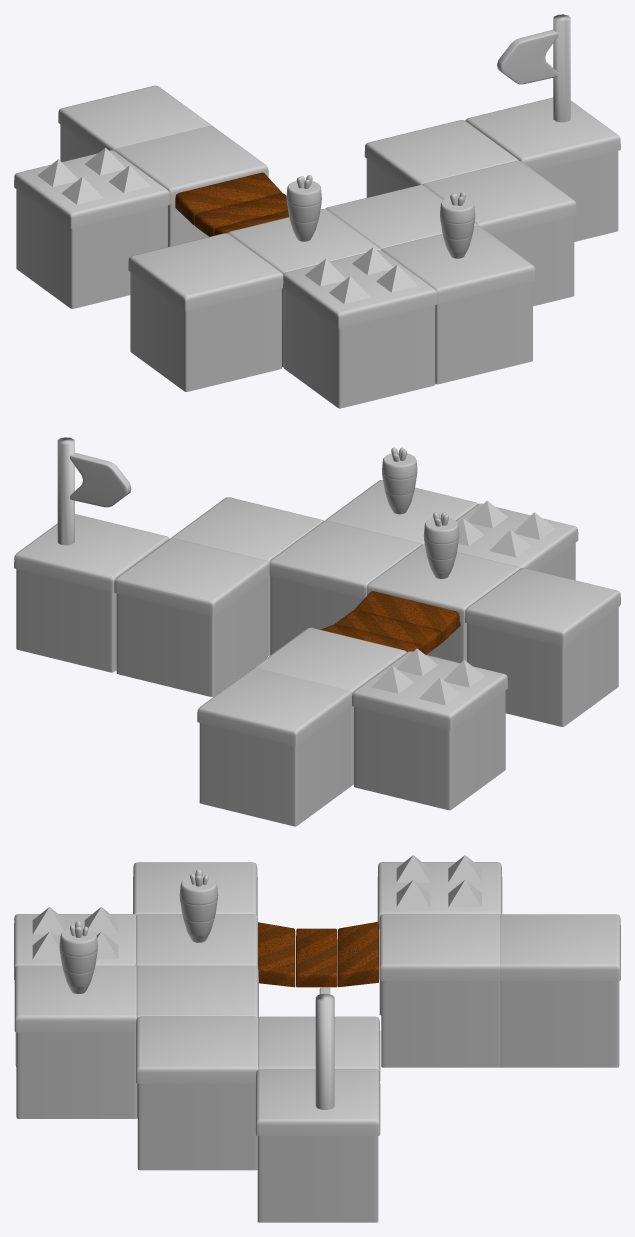
File: uroven.fbx
3 renders of one model, top to bottom at view 1: azimuth 30°, elevation 25°; view 2: azimuth 150°, elevation 25°; view 3: azimuth 270°, elevation 25°, orthographic. The views are drawn at different scales.
Visible parts, largest first — view 1: blok1.001, blok2.001, blok2, blok1.007, blok1.005, blok1.008, blok1, blok1.002, blok1.004, blok1.003, most, blok1.006 (+5 smaller); view 2: blok1.002, blok1.004, blok1.001, blok2, blok1.005, blok1.006, blok1.003, blok1, blok1.008, most, blok1.007, blok2.001 (+5 smaller); view 3: blok1.008, blok1.004, blok1, blok1.005, blok1.007, most, blok1.006, blok1.003, blok1.002, blok1.001, blok2, ship 1 (+5 smaller).
Part boxes in pixels (<box>): blok1.001: <box>128,233,283,391</box>; blok2.001: <box>283,250,437,408</box>; blok2: <box>14,150,170,308</box>; blok1.007: <box>381,225,535,384</box>; blok1.005: <box>465,97,620,241</box>; blok1.008: <box>422,160,576,306</box>; blok1: <box>114,125,268,246</box>; blok1.002: <box>364,120,518,197</box>; blok1.004: <box>58,85,211,161</box>; blok1.003: <box>227,209,380,367</box>; most: <box>175,172,288,236</box>; blok1.006: <box>325,185,477,249</box>; blok1.002: <box>114,538,269,696</box>; blok1.004: <box>197,667,352,826</box>; blok1.001: <box>465,568,620,726</box>; blok2: <box>352,651,507,810</box>; blok1.005: <box>14,514,169,672</box>; blok1.006: <box>269,520,421,654</box>; blok1.003: <box>367,544,520,663</box>; blok1: <box>254,627,406,786</box>; blok1.008: <box>171,497,323,656</box>; most: <box>320,591,460,654</box>; blok1.007: <box>325,480,478,544</box>; blok2.001: <box>424,503,578,580</box>; blok1.008: <box>136,1016,258,1170</box>; blok1.004: <box>500,914,620,1067</box>; blok1: <box>379,914,500,1067</box>; blok1.005: <box>255,1069,380,1222</box>; blok1.007: <box>14,965,136,1118</box>; most: <box>258,922,378,987</box>; blok1.006: <box>136,965,258,1118</box>; blok1.003: <box>135,914,257,966</box>; blok1.002: <box>258,1016,380,1081</box>; blok1.001: <box>133,862,257,916</box>; blok2: <box>377,862,502,1015</box>; ship 1: <box>396,855,481,907</box>.
Bounding box in the file's own units: 98.65 × 37.44 × 97.42.
